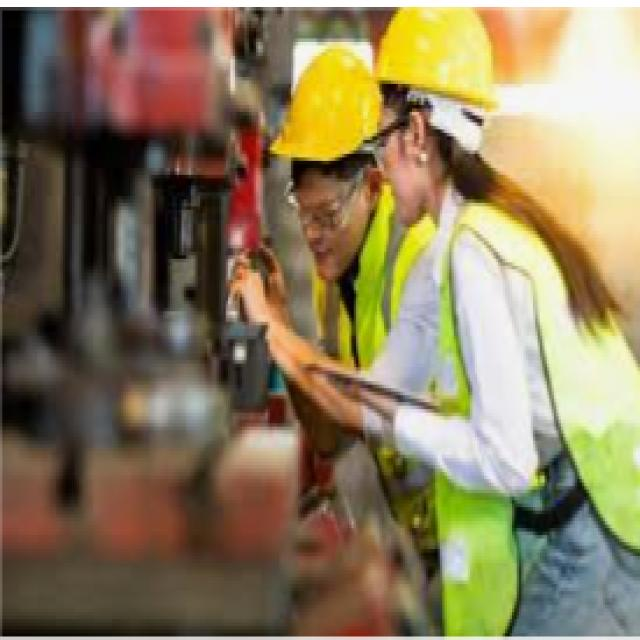glasses: (291, 181, 358, 231), (360, 112, 428, 154)
